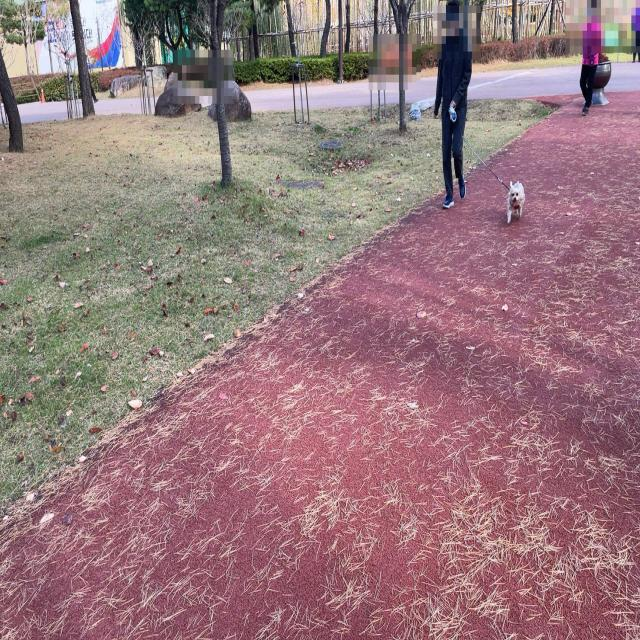Leashed_Dog: (456, 120, 525, 224)
